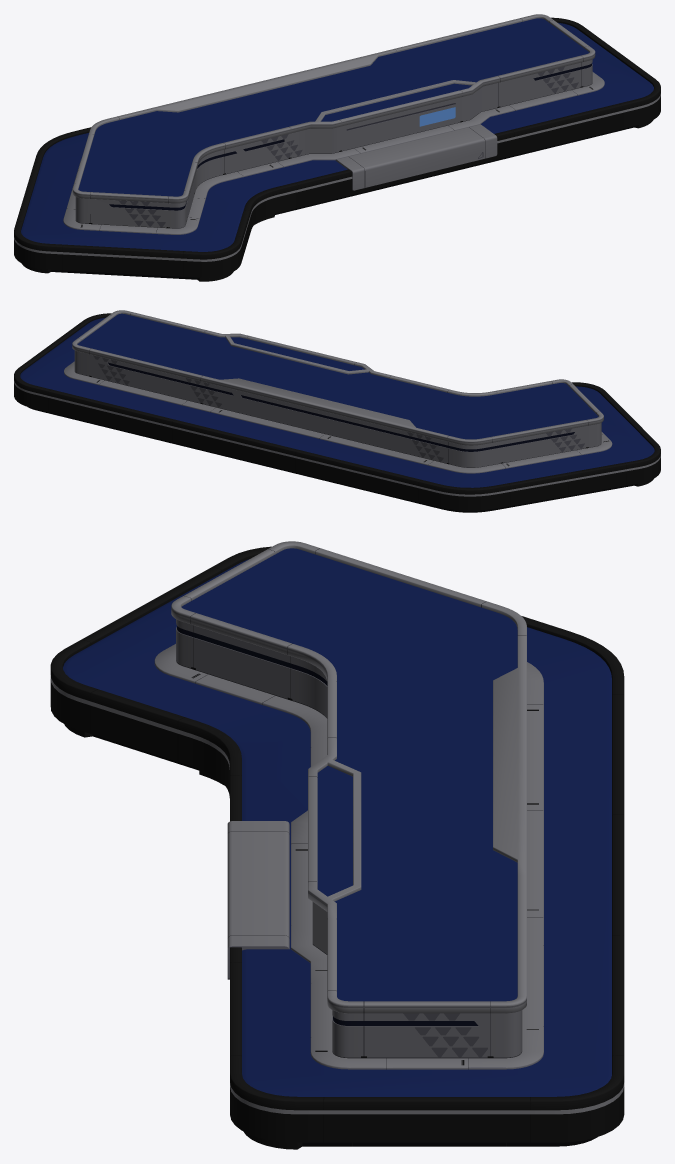
File: W_O_Flowerbed_001_L0.fbx
3 views of the same model, one above another, from view 1: azimuth 30°, elevation 25°; view 2: azimuth 150°, elevation 25°; view 3: azimuth 270°, elevation 25° (orthographic). The views are drawn at different scales.
Visible parts, largest first — view 1: W_O_Flowerbed_001_L0; view 2: W_O_Flowerbed_001_L0; view 3: W_O_Flowerbed_001_L0.
Boxes of the visible parts, x1,y1,x2,y2 form: W_O_Flowerbed_001_L0: (14,14,660,281); W_O_Flowerbed_001_L0: (14,310,660,512); W_O_Flowerbed_001_L0: (50,541,624,1149).
Bounding box in the file's own units: 11 × 1 × 4.8.
